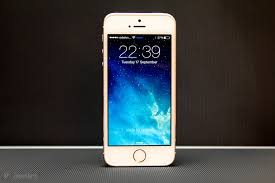iphone: (100, 10, 182, 168)
iphone5: (98, 11, 180, 169)
